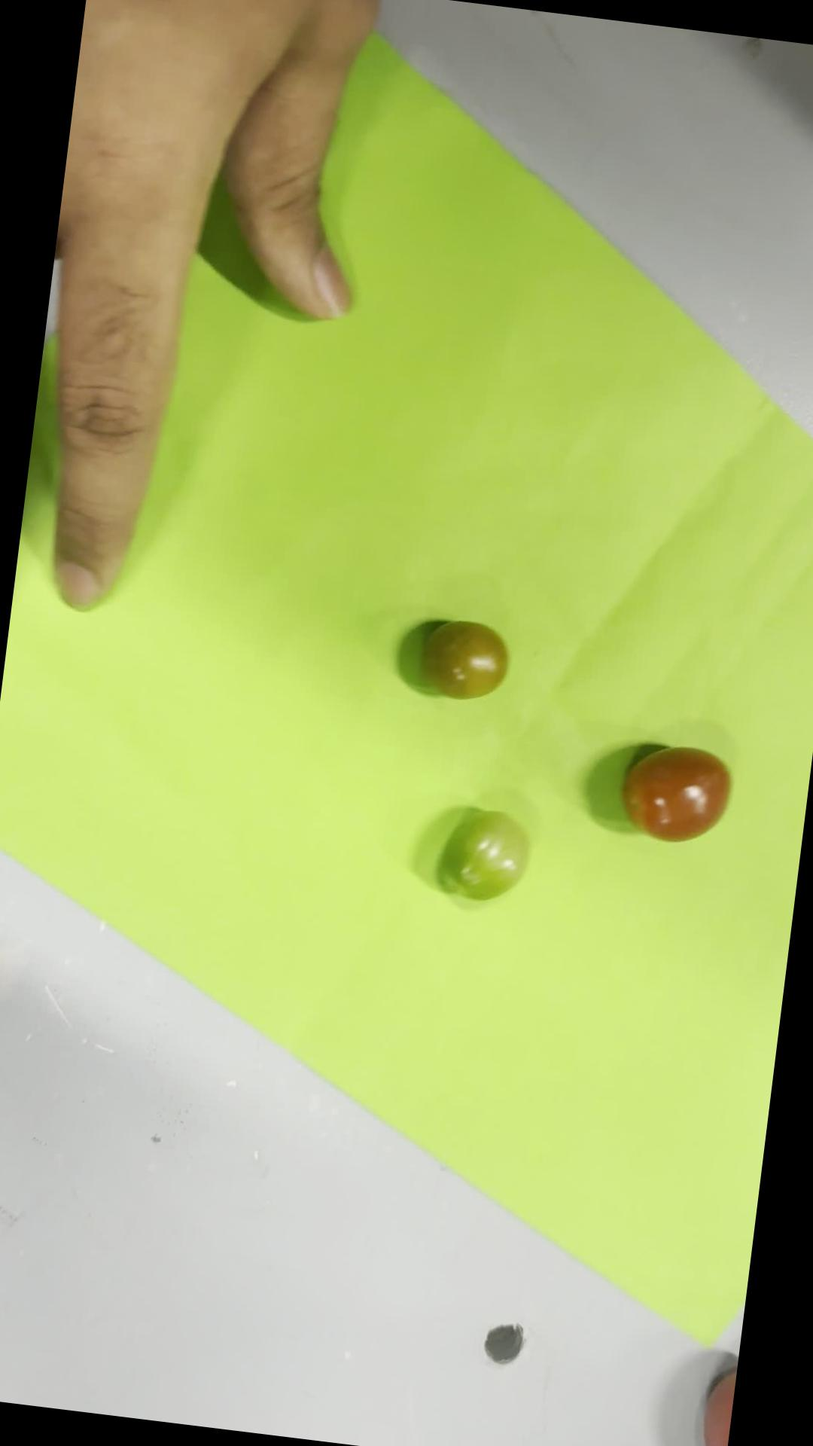green_cherry_tomato: (436, 808, 529, 901)
red_cherry_tomato: (622, 746, 730, 841)
yellow_cherry_tomato: (422, 622, 508, 698)
